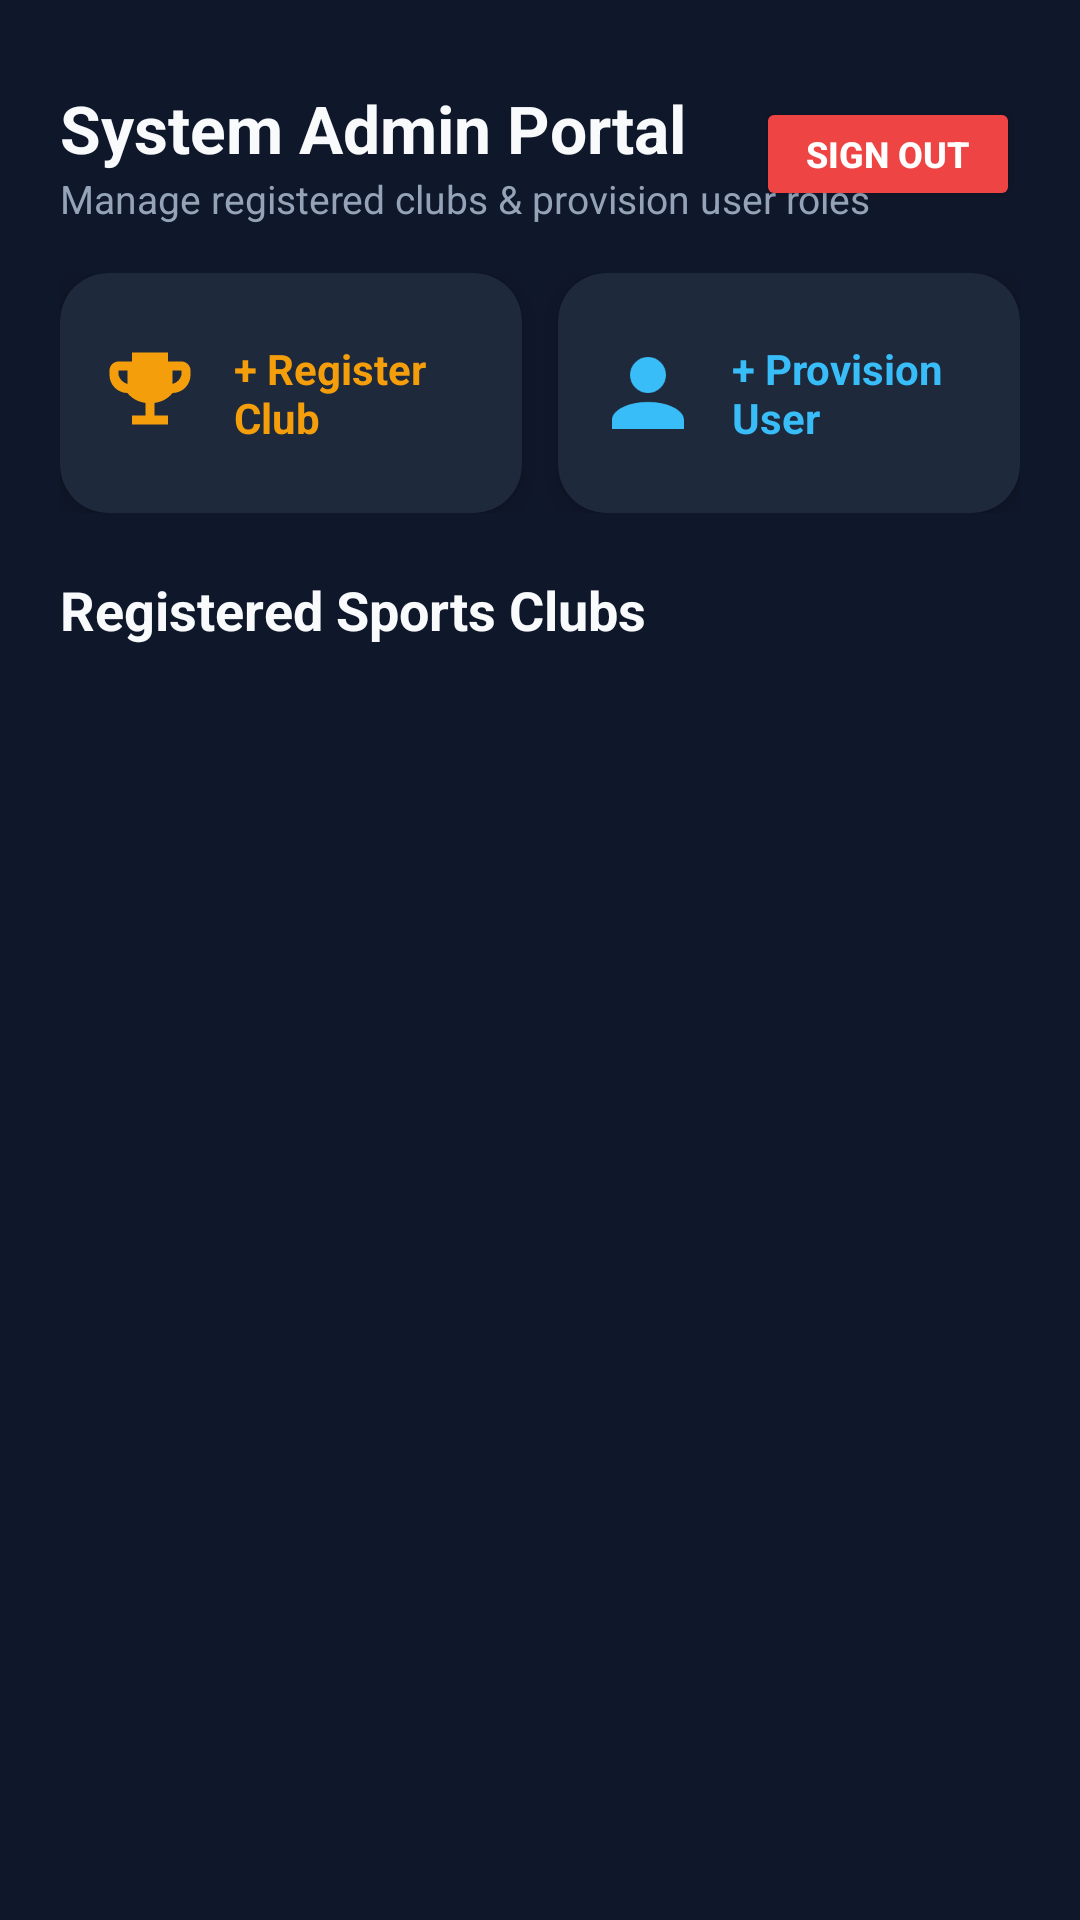

Icons on this 1080w x 1920h Android screen, each with its box as [x1=x1, y1=y1, x2=x2, y2=y2]:
person: [x1=612, y1=357, x2=684, y2=429]
trophy: [x1=109, y1=352, x2=191, y2=425]
